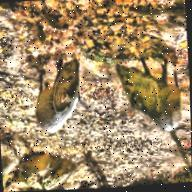boar: (113, 42, 189, 133), (28, 52, 93, 140)
